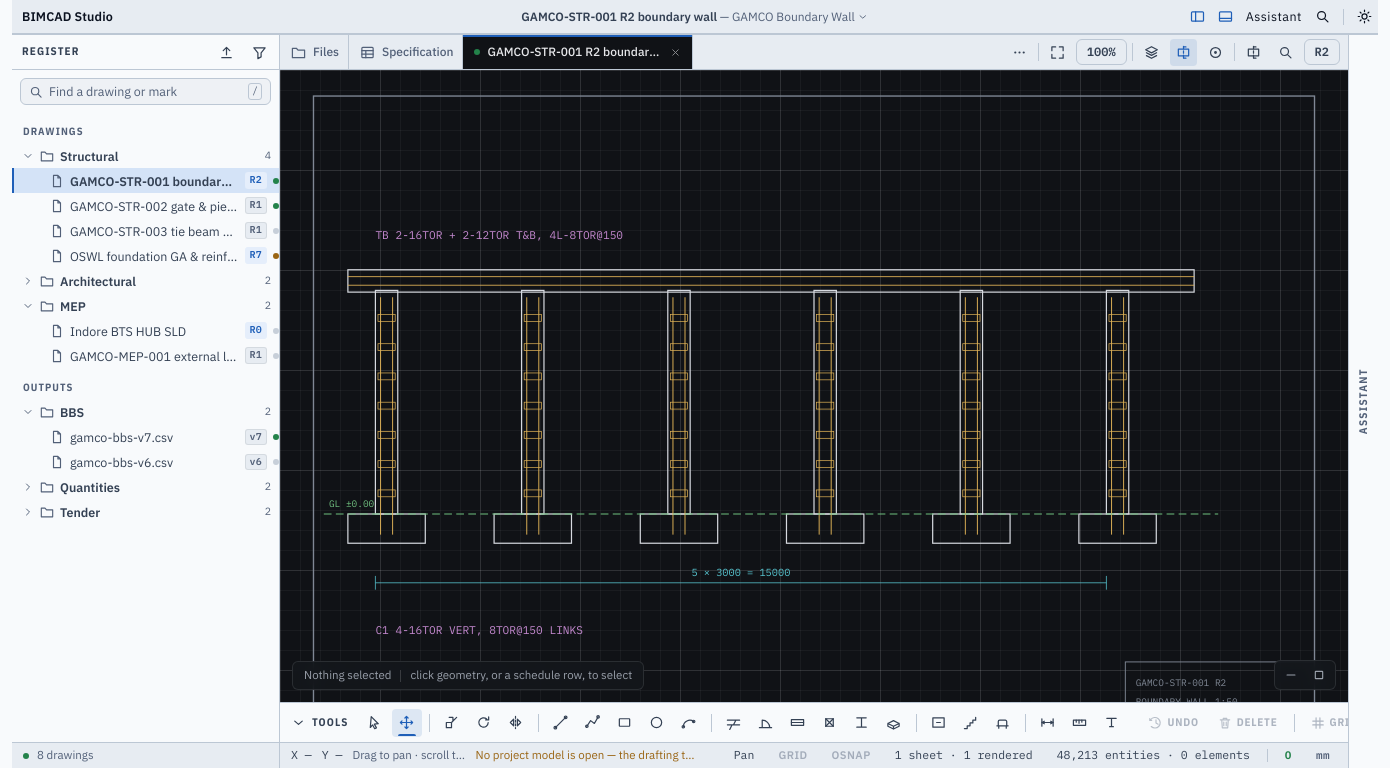
Test: the arming row › is under the strip only when the strip is open and a model is there to arm
Click the button "Tools": (322,722) [286, 710, 358, 736]
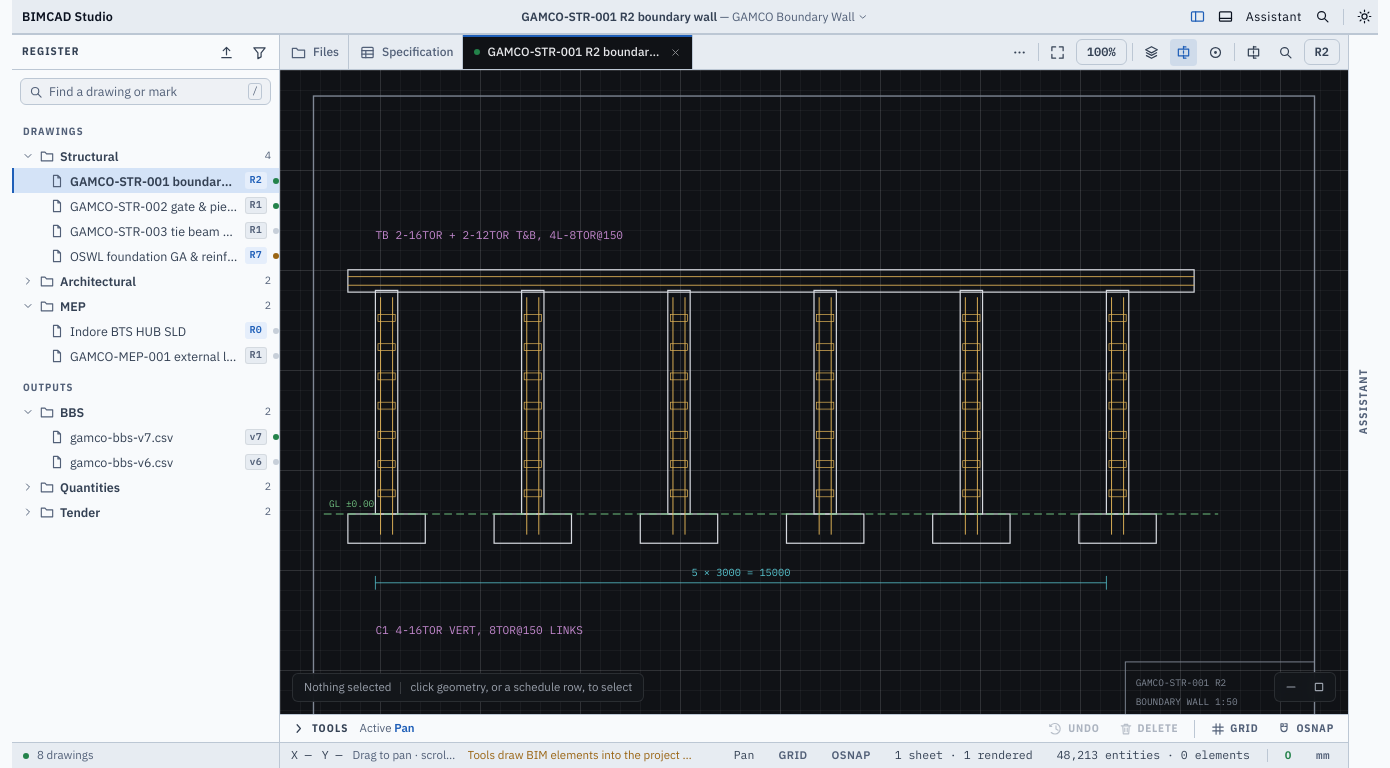
Click the button "Tools": (322,728) [286, 716, 358, 742]
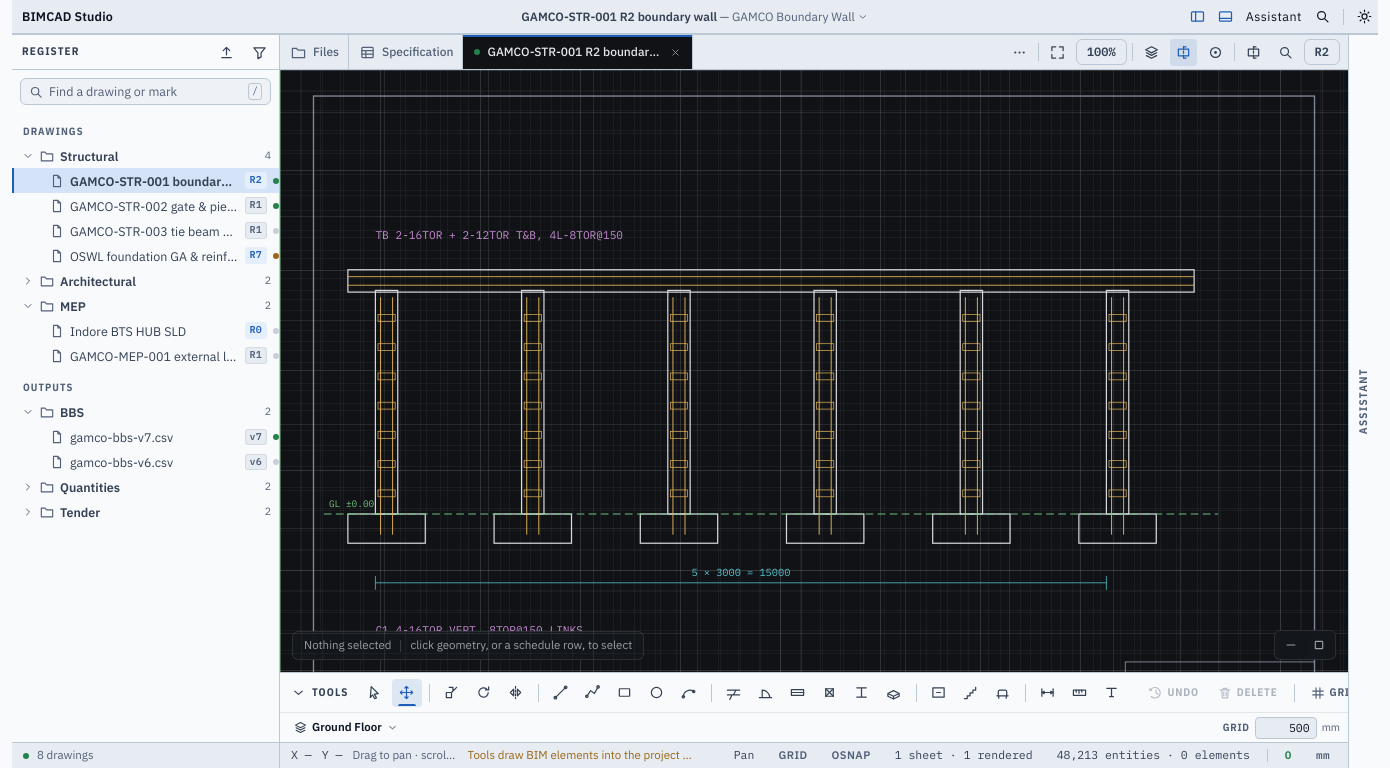
Now the element with test id "tool-options" is shown, box [280, 712, 1348, 742]
